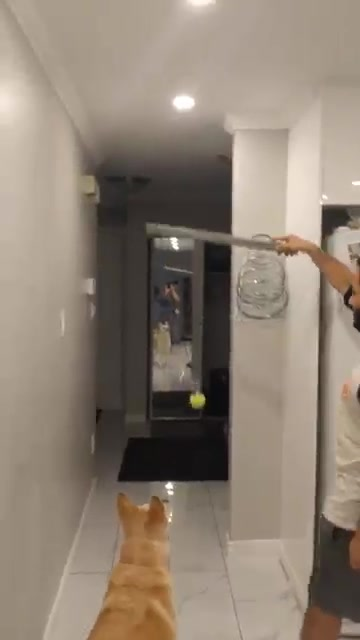tennis_ball: (189, 392, 206, 409)
